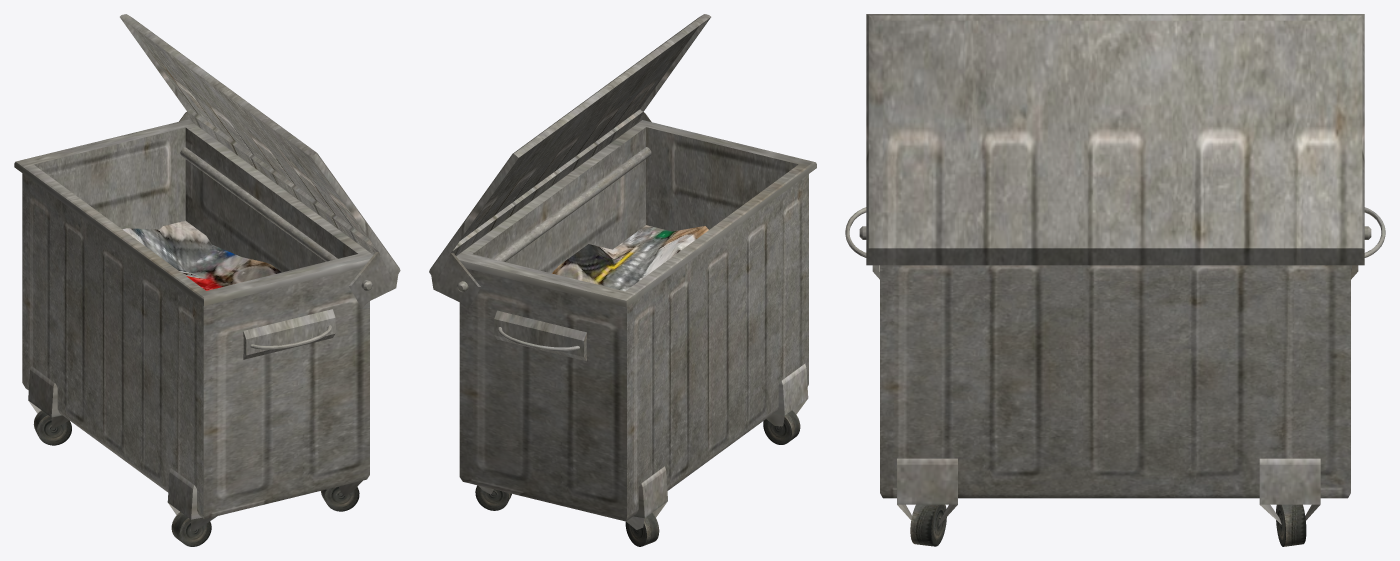
The model's file is container.gltf.
3 views of the same model, side by side, from view 1: azimuth 30°, elevation 25°; view 2: azimuth 150°, elevation 25°; view 3: azimuth 270°, elevation 25° (orthographic). The views are drawn at different scales.
Visible parts, largest first — view 1: SM_Cop_Kovasi_1_0; view 2: SM_Cop_Kovasi_1_0; view 3: SM_Cop_Kovasi_1_0.
Part boxes in pixels (box(x1,y1,x2,y2)): SM_Cop_Kovasi_1_0: box(14, 14, 400, 546); SM_Cop_Kovasi_1_0: box(429, 14, 816, 546); SM_Cop_Kovasi_1_0: box(845, 14, 1385, 546).
Bounding box in the file's own units: 83.97 × 152 × 149.
1 material, 1 textured.
